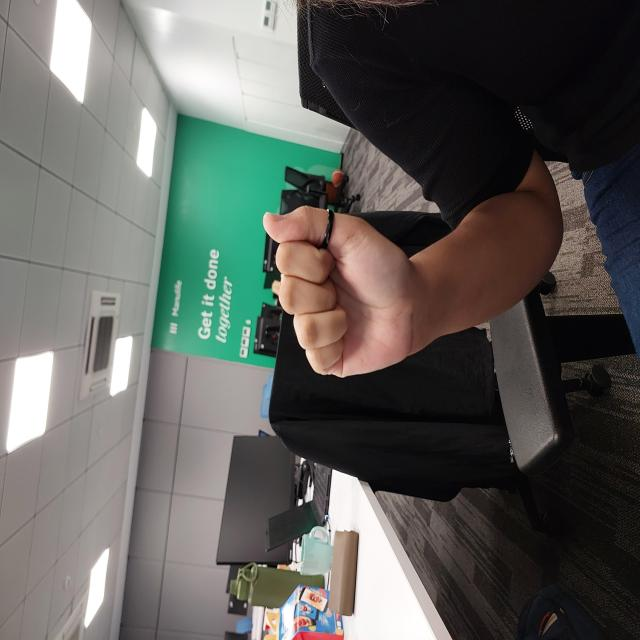A: (260, 260, 438, 417)
